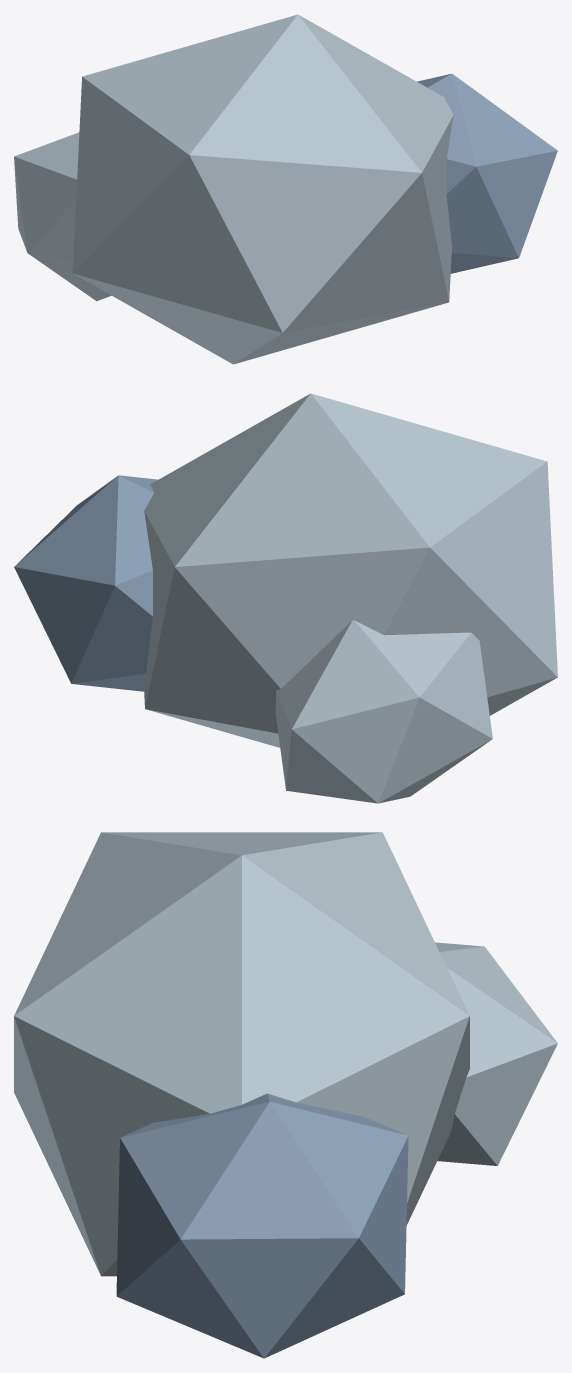
File: rock.glb
3 views of the same model, one above another, from view 1: azimuth 30°, elevation 25°; view 2: azimuth 150°, elevation 25°; view 3: azimuth 270°, elevation 25° (orthographic). The views are drawn at different scales.
Parts seen in each view (by area): view 1: Stone, Stone.001, Stone.002; view 2: Stone, Stone.002, Stone.001; view 3: Stone, Stone.001, Stone.002.
Part boxes in pixels (x1,y1,x2,y2): Stone: [72, 14, 453, 364]; Stone.001: [417, 73, 557, 273]; Stone.002: [14, 132, 111, 301]; Stone: [143, 393, 557, 747]; Stone.002: [275, 620, 492, 803]; Stone.001: [14, 475, 157, 691]; Stone: [14, 832, 469, 1276]; Stone.001: [116, 1093, 408, 1358]; Stone.002: [435, 942, 557, 1165].
Bounding box in the file's own units: 1.7 × 1.18 × 1.32.
